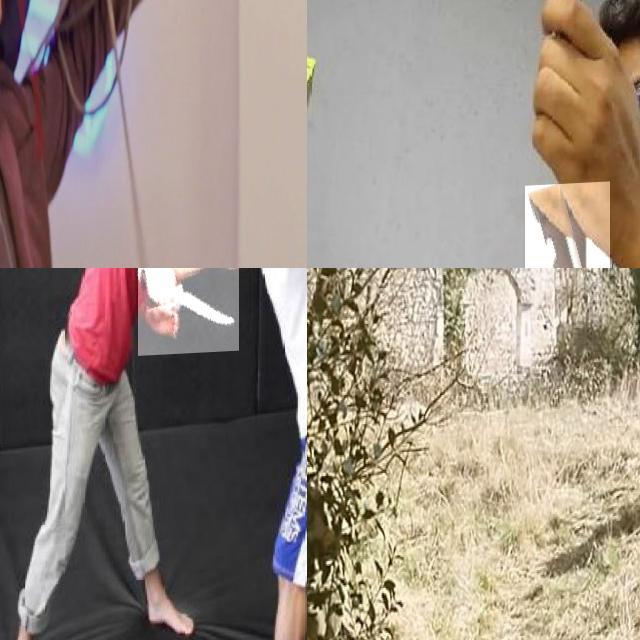-: (137, 268, 239, 358), (525, 185, 610, 268)
gun-knife-thesis - v11 Yolov5 augmented: (143, 0, 276, 90)
